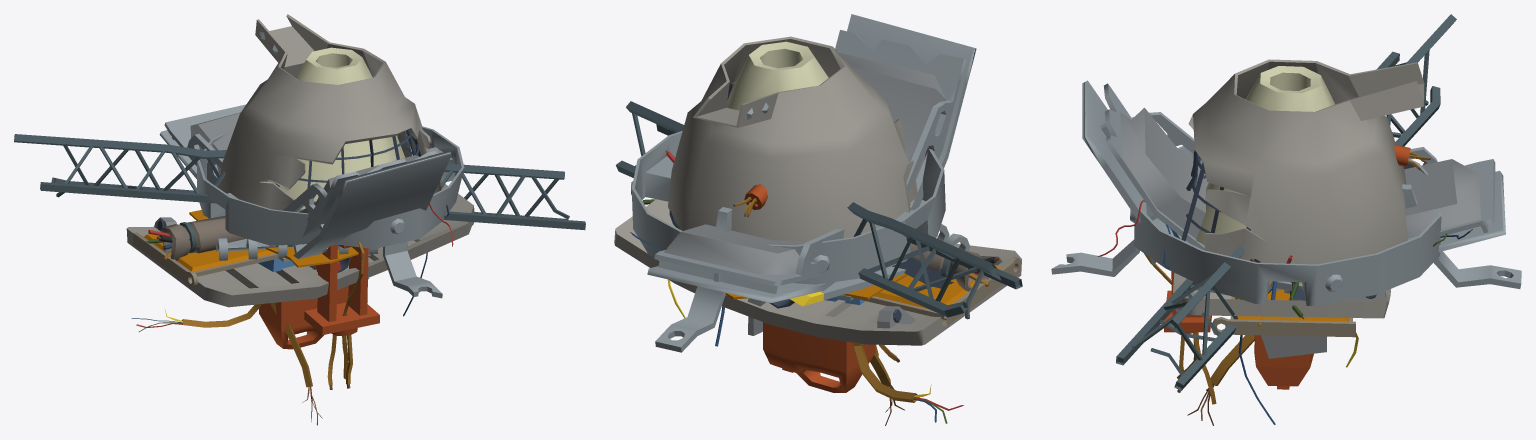
File: SM_SpaceJunk.fbx
3 renders of one model, left to right at view 1: azimuth 30°, elevation 25°; view 2: azimuth 150°, elevation 25°; view 3: azimuth 270°, elevation 25°, orthographic. The views are drawn at different scales.
Parts seen in each view (by area): view 1: SpaceJunk_039, SpaceJunk_031, SpaceJunk_040, SpaceJunk_026, SpaceJunk_029, SpaceJunk_006, SpaceJunk_025, SpaceJunk_014, SpaceJunk_027, SpaceJunk_035; view 2: SpaceJunk_039, SpaceJunk_031, SpaceJunk_026, SpaceJunk_040, SpaceJunk_014, SpaceJunk_006, SpaceJunk_027, SpaceJunk_025, SpaceJunk_029, SpaceJunk_022, SpaceJunk_035; view 3: SpaceJunk_039, SpaceJunk_031, SpaceJunk_040, SpaceJunk_026, SpaceJunk_006, SpaceJunk_014, SpaceJunk_029, SpaceJunk_019.
Part boxes in pixels (box(x1,y1,x2,y2)): SpaceJunk_039: box(131, 14, 464, 425); SpaceJunk_031: box(159, 104, 453, 260); SpaceJunk_040: box(14, 134, 585, 230); SpaceJunk_026: box(126, 184, 474, 307); SpaceJunk_029: box(304, 242, 379, 389); SpaceJunk_006: box(133, 222, 473, 287); SpaceJunk_025: box(145, 138, 432, 260); SpaceJunk_014: box(259, 286, 348, 349); SpaceJunk_027: box(208, 215, 407, 260); SpaceJunk_035: box(189, 210, 358, 267); SpaceJunk_039: box(631, 36, 963, 425); SpaceJunk_031: box(630, 14, 976, 302); SpaceJunk_026: box(614, 199, 1021, 345); SpaceJunk_040: box(616, 101, 1022, 319); SpaceJunk_014: box(763, 322, 875, 392); SpaceJunk_006: box(851, 257, 1021, 325); SpaceJunk_027: box(790, 210, 970, 306); SpaceJunk_025: box(642, 150, 999, 291); SpaceJunk_029: box(733, 184, 899, 362); SpaceJunk_022: box(892, 257, 949, 288); SpaceJunk_035: box(725, 273, 907, 299); SpaceJunk_039: box(1051, 59, 1521, 425); SpaceJunk_031: box(1082, 80, 1505, 269); SpaceJunk_040: box(1116, 14, 1456, 390); SpaceJunk_026: box(1173, 273, 1390, 318); SpaceJunk_006: box(1211, 289, 1355, 337); SpaceJunk_014: box(1254, 335, 1313, 389); SpaceJunk_029: box(1144, 144, 1430, 404); SpaceJunk_019: box(1261, 335, 1326, 358).
Size of the model in its own units: 3.29 by 2.37 by 2.64.
